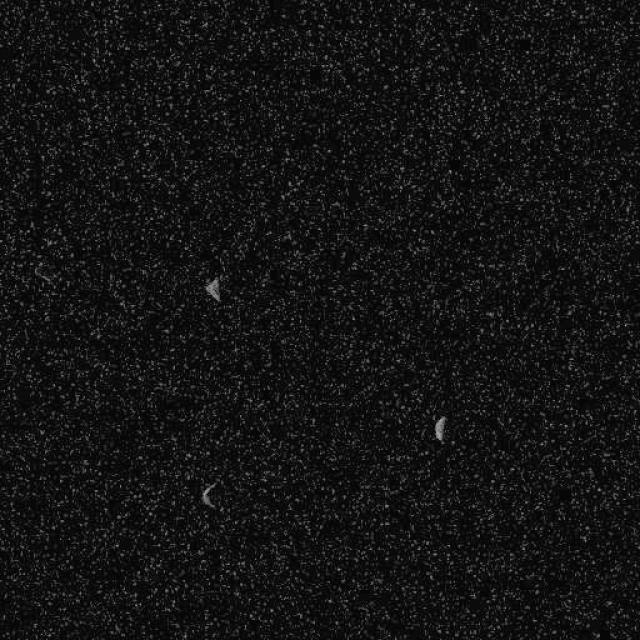D2: (198, 480, 218, 509), (432, 413, 448, 442), (204, 276, 221, 302)
